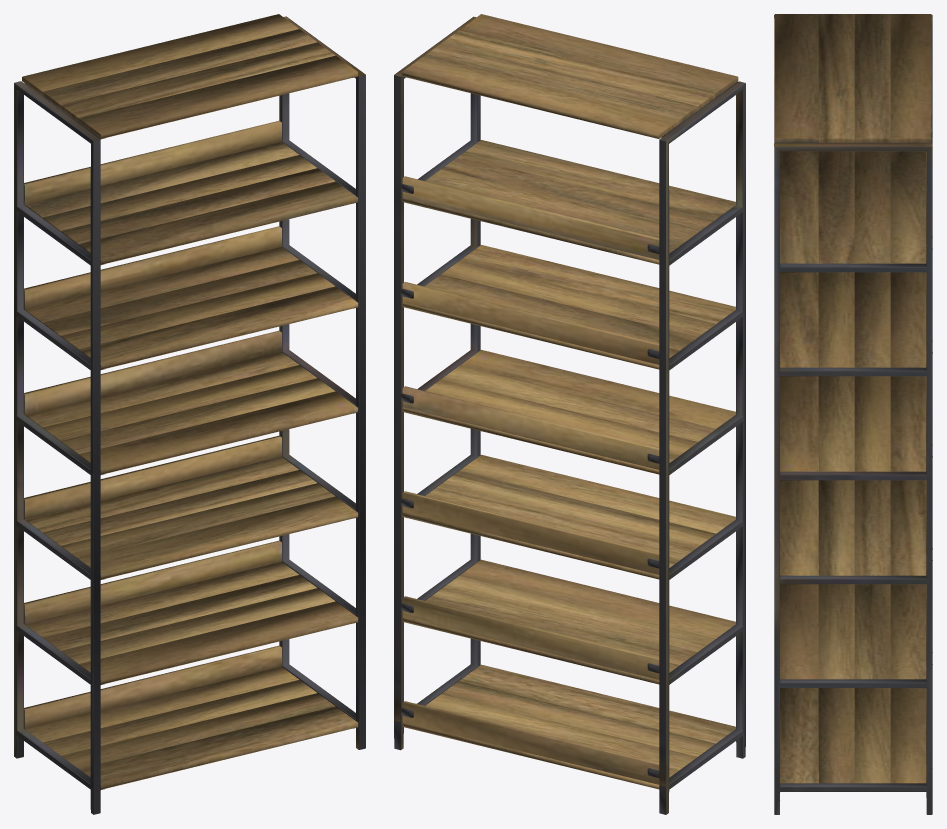
The picture shows the model from 3 angles, left to right: view 1: azimuth 30°, elevation 25°; view 2: azimuth 150°, elevation 25°; view 3: azimuth 270°, elevation 25°; orthographic projection.
Visible parts, largest first — view 1: visual_RootNode; view 2: visual_RootNode; view 3: visual_RootNode.
Part boxes in pixels (bbox=[...]): visual_RootNode: bbox=[14, 14, 365, 814]; visual_RootNode: bbox=[394, 14, 745, 814]; visual_RootNode: bbox=[774, 14, 932, 814].
Bounding box in the file's own units: 0.8474 × 0.4309 × 2.02.
1 material, 1 textured.
